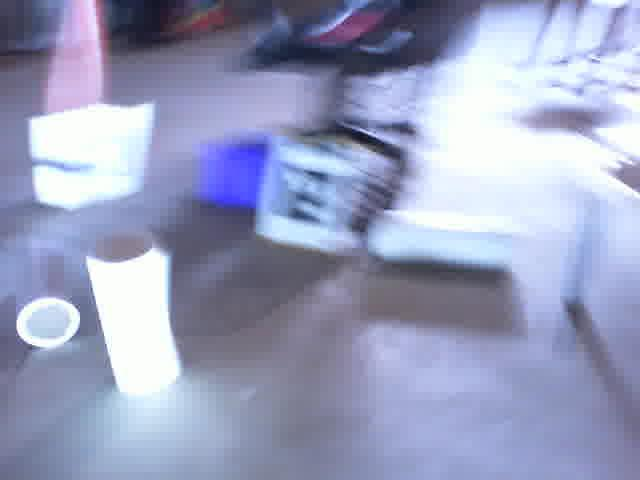coral: (80, 225, 194, 401), (11, 225, 80, 353)
